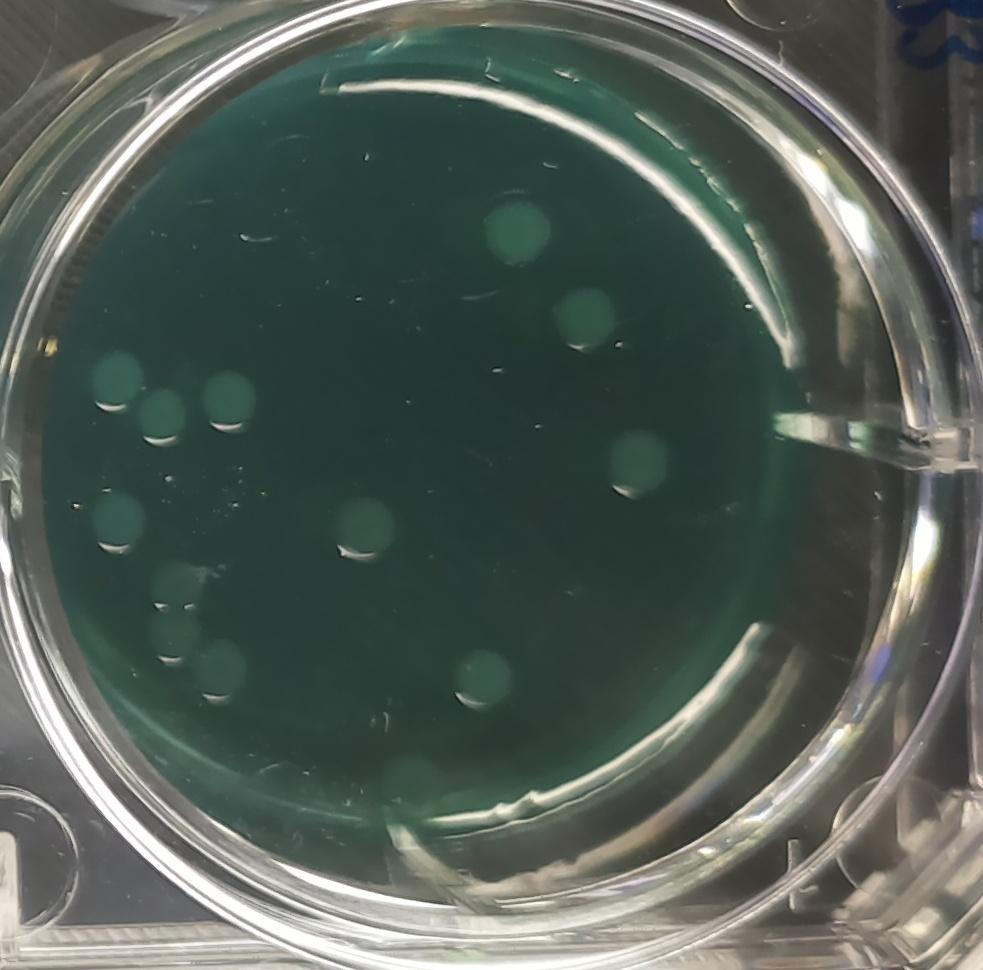pddamselae: (545, 280, 626, 362), (476, 192, 556, 275), (324, 492, 403, 570), (600, 421, 676, 501), (446, 639, 520, 715), (85, 481, 153, 553), (197, 369, 262, 434), (191, 642, 252, 708), (84, 349, 143, 409), (133, 388, 194, 446), (144, 610, 203, 667), (146, 554, 202, 612)
